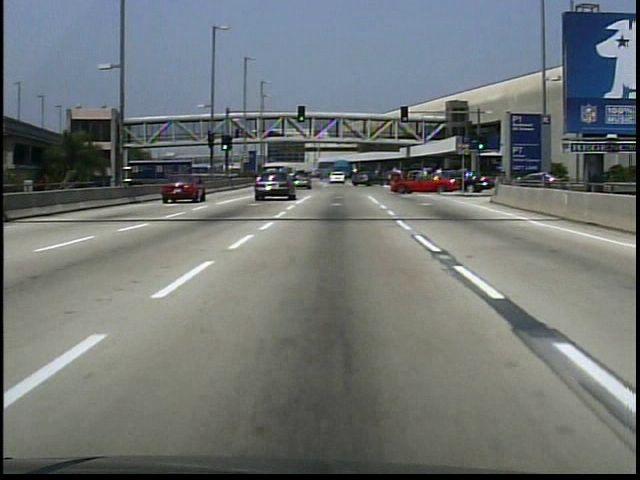person: (234, 128, 241, 141)
